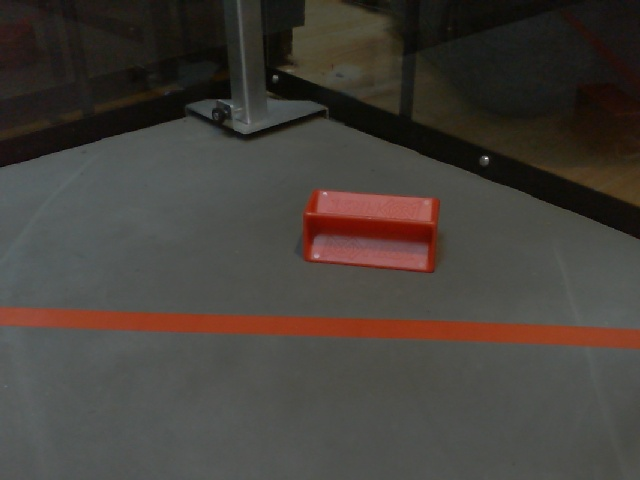RedSample: (301, 187, 444, 278)
